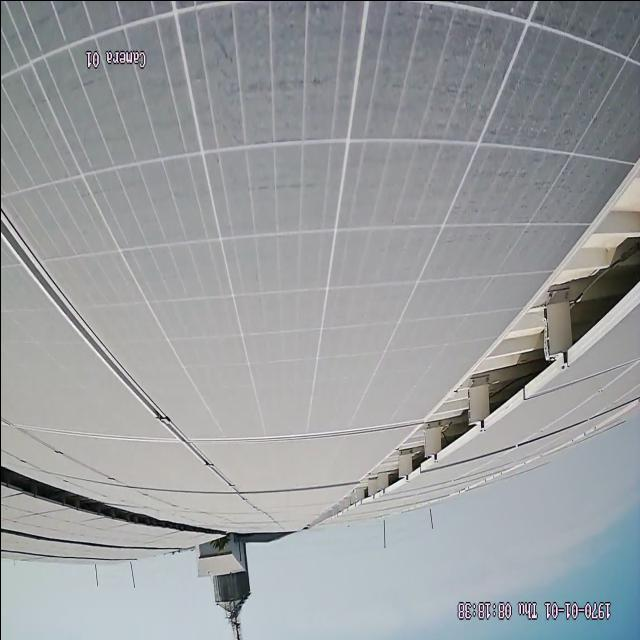outher panel: (320, 160, 640, 517), (1, 208, 240, 494), (1, 456, 190, 530)
